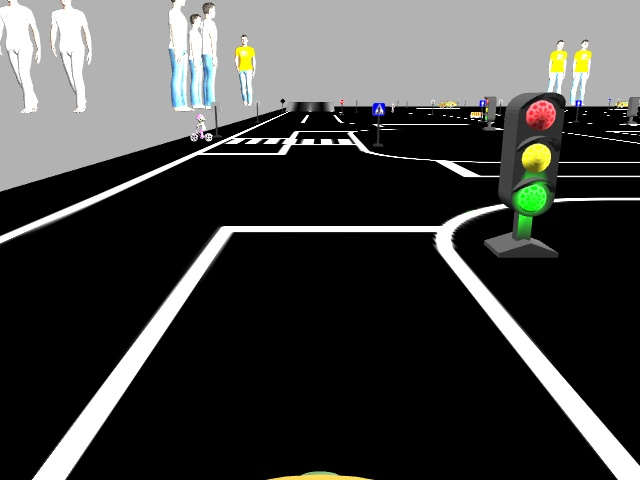Crosswalk: (372, 102, 384, 116)
Pedestrian: (190, 113, 212, 141)
TrafficLight: (498, 94, 566, 216)
